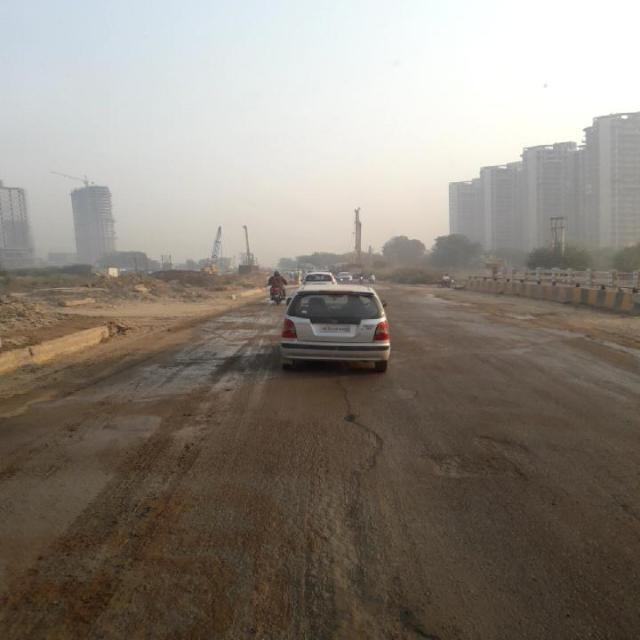Surface Erosion: (15, 239, 640, 640)
